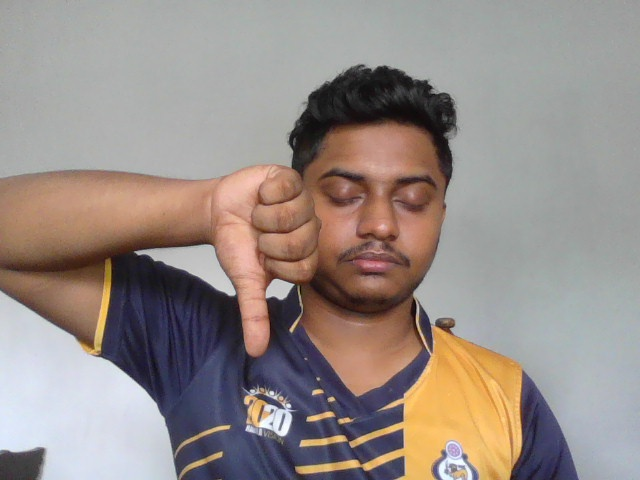Disagree: (208, 161, 321, 358)
